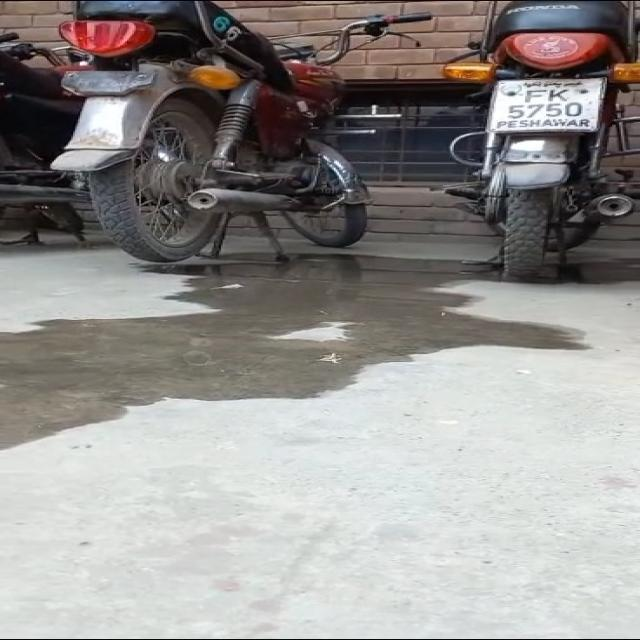water accumulation: (0, 245, 594, 448)
